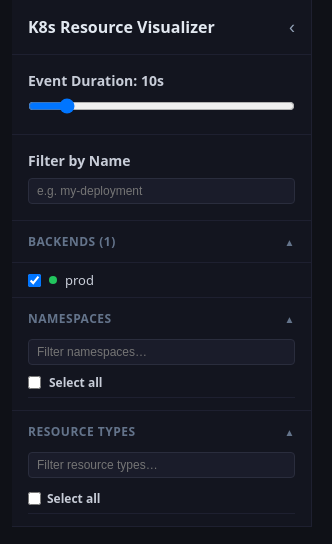
Test: Sidebar › collapses and expands backends list
Expected: the text "prod" is shown, [65, 271, 94, 289]
Click the button "Backends (1) ▲": (72, 242) [12, 221, 311, 262]
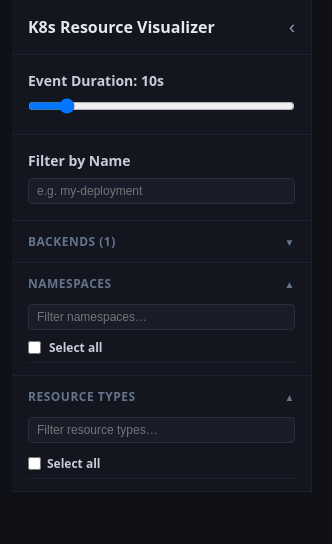
Expected: the text "prod" is gone
Click the button "Backends (1) ▼": (72, 242) [12, 221, 311, 262]
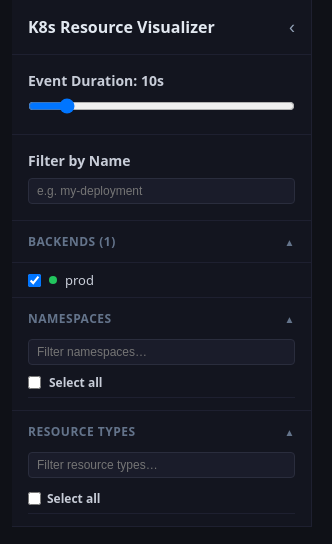
Expected: the text "prod" is shown, [65, 271, 94, 289]
